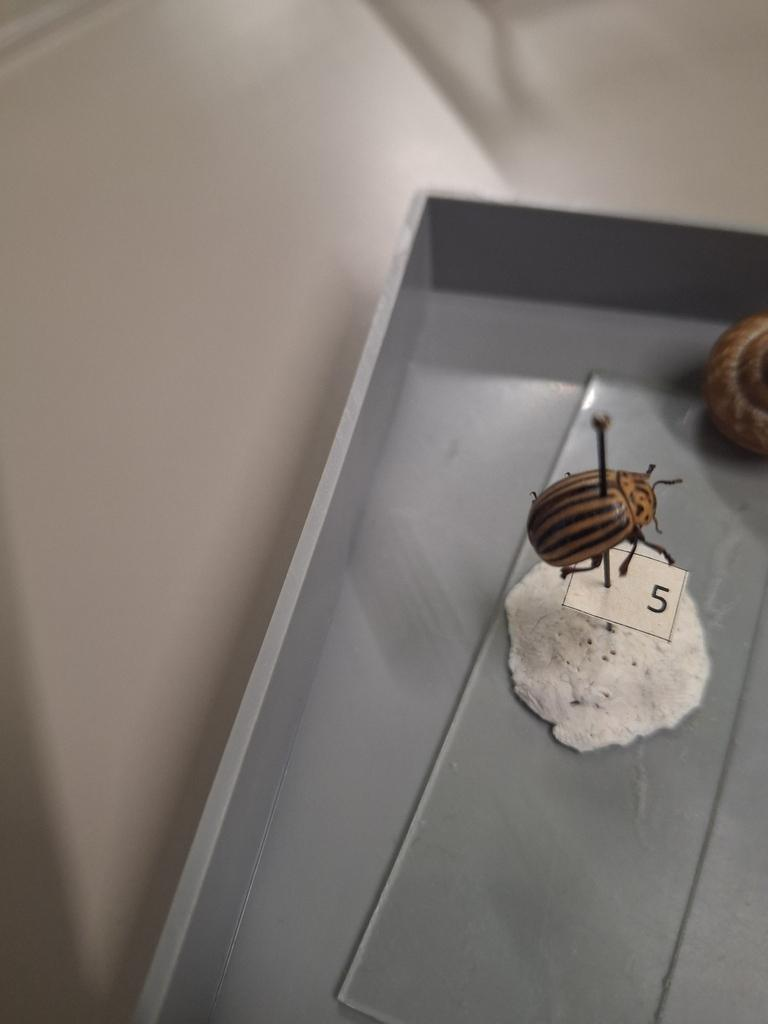potato_beetle: (478, 388, 708, 624)
